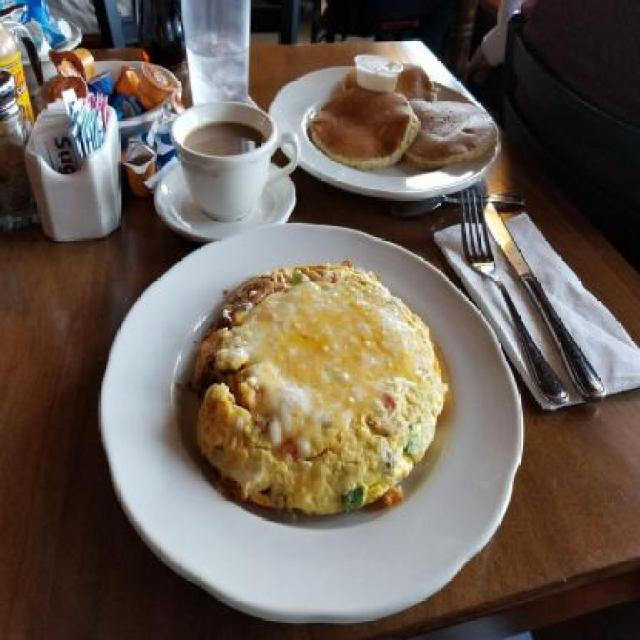ice cream: (356, 54, 401, 89)
omelette: (198, 262, 447, 515)
pancakes: (311, 44, 500, 184)
